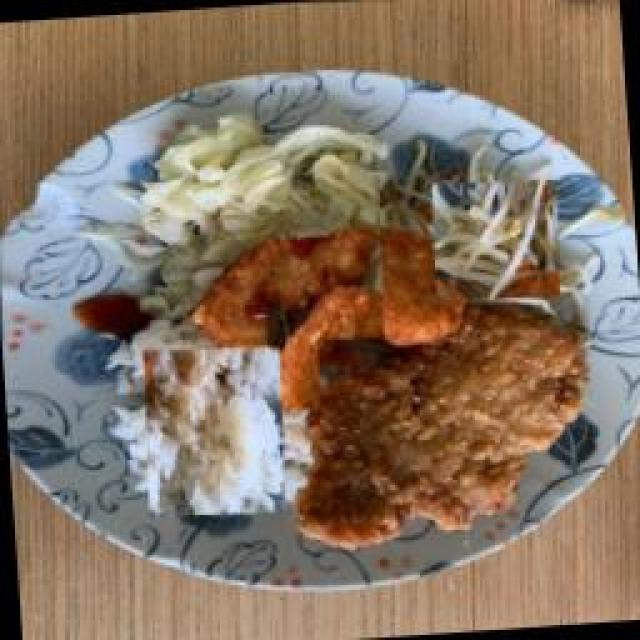Wet Waste: (310, 322, 580, 552), (228, 195, 420, 387), (130, 347, 298, 515), (162, 132, 380, 250), (430, 173, 562, 305)
